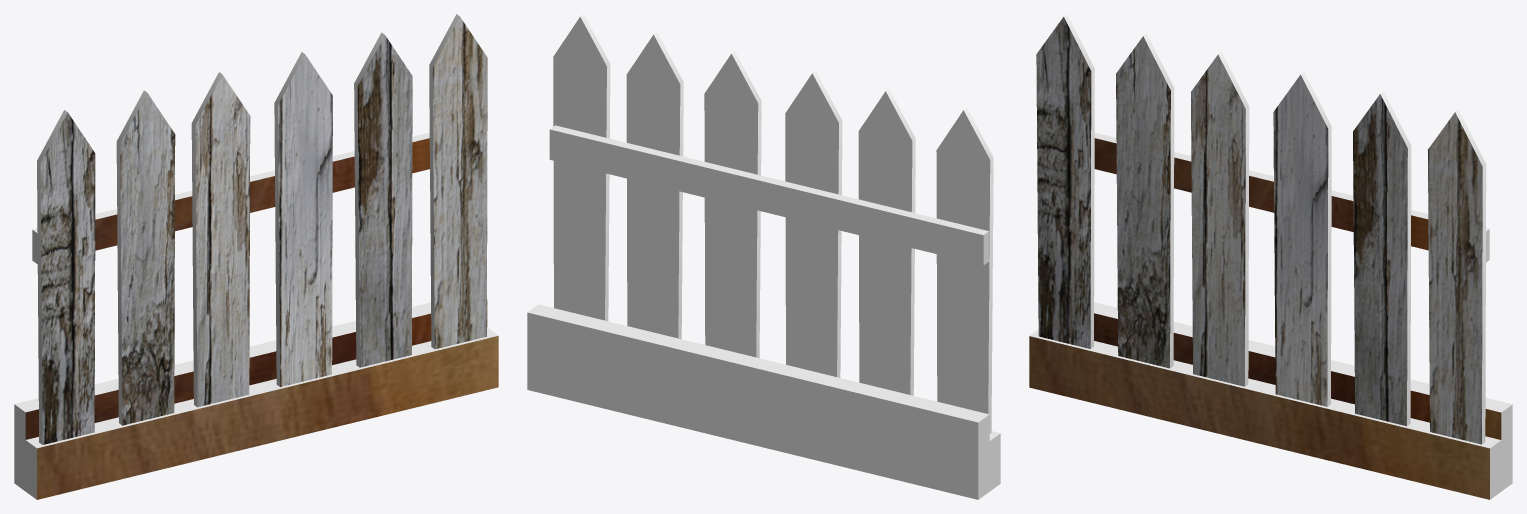
The model's file is fence.FBX.
The picture shows the model from 3 angles, left to right: view 1: azimuth 30°, elevation 25°; view 2: azimuth 150°, elevation 25°; view 3: azimuth 330°, elevation 25°; orthographic projection. The views are drawn at different scales.
Parts seen in each view (by area): view 1: Box001; view 2: Box001; view 3: Box001.
Part boxes in pixels (x1,y1,x2,y2): Box001: (14,14,498,499); Box001: (527,14,1000,499); Box001: (1029,14,1512,499).
Bounding box in the file's own units: 252 × 197 × 21.53.
